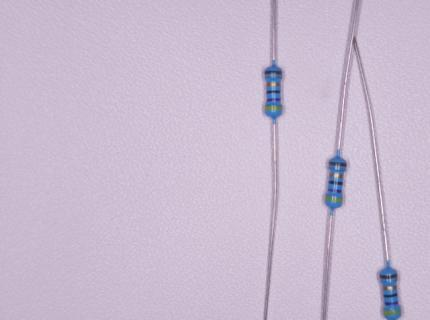Black band: (328, 180, 343, 185), (384, 293, 398, 298), (267, 90, 281, 94)
Brown band: (328, 161, 347, 167), (379, 273, 398, 279), (264, 71, 282, 75)
Gold band: (382, 285, 397, 291), (329, 173, 344, 179), (265, 83, 281, 86)
Violet band: (384, 301, 399, 306), (328, 188, 342, 193), (267, 98, 281, 102)
Yellow band: (325, 196, 343, 203), (383, 309, 401, 315), (265, 107, 282, 111)
